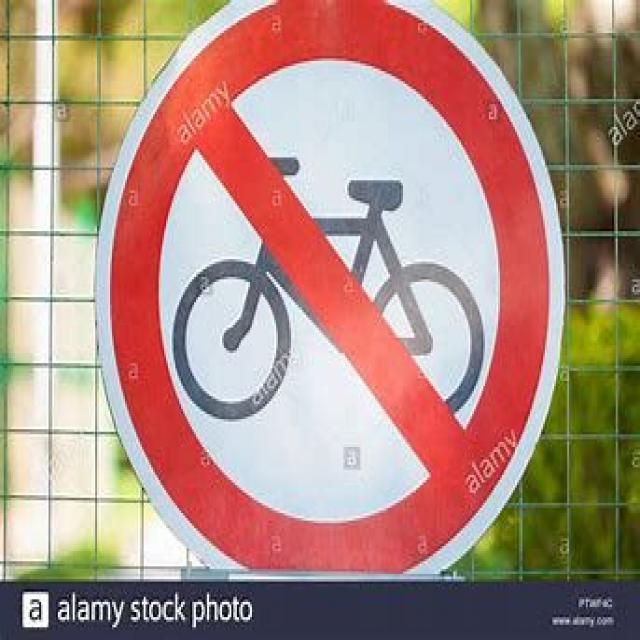CYCLE_PROHIBITED: (94, 0, 564, 574)
